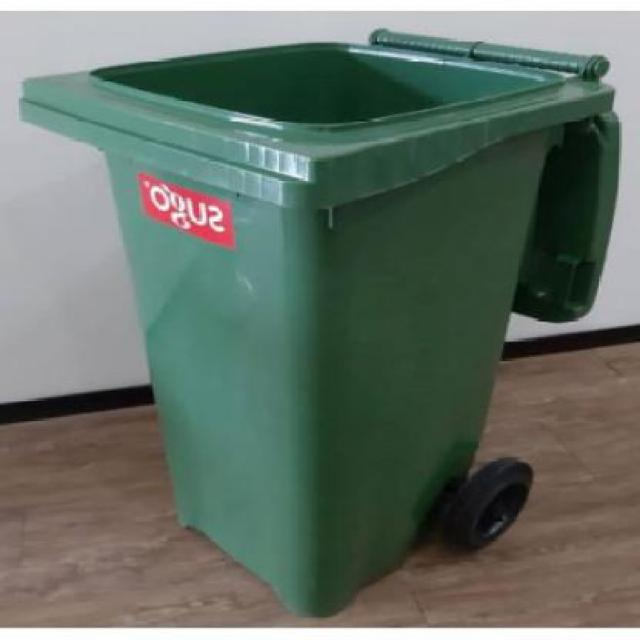garbage container: (8, 27, 634, 638)
